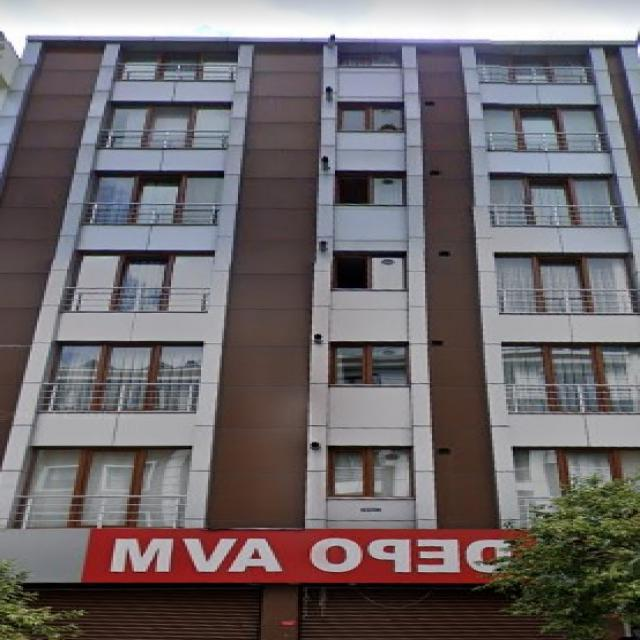Building: (0, 35, 640, 637)
